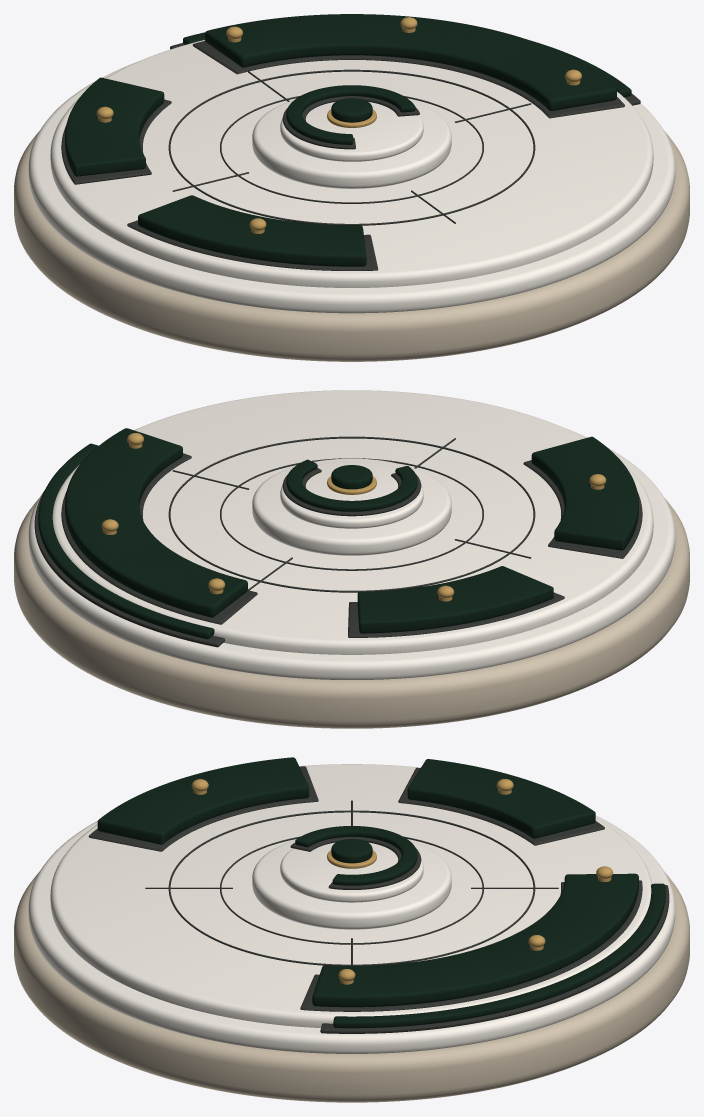
File: reflow-orb-authored.glb
3 renders of one model, top to bottom at view 1: azimuth 30°, elevation 25°; view 2: azimuth 150°, elevation 25°; view 3: azimuth 270°, elevation 25°, orthographic.
Visible parts, largest first — view 1: TopPlate, ReflowBody, LayeredSidewall, PrimaryForestTrack, PrimaryForestTrack_C, CenterPedestal, PrimaryForestTrack_B, CenterInterface, PrimaryTrackSeat, ObjectiveTrack, SeamGeometry_Outer, PrimaryTrackSeat_C (+5 smaller); view 2: TopPlate, ReflowBody, LayeredSidewall, PrimaryForestTrack, PrimaryForestTrack_C, PrimaryForestTrack_B, CenterPedestal, SecondaryForestTrack, CenterInterface, ObjectiveTrack, PrimaryTrackSeat, SeamGeometry_Outer (+6 smaller); view 3: TopPlate, ReflowBody, LayeredSidewall, PrimaryForestTrack, PrimaryForestTrack_C, PrimaryForestTrack_B, CenterPedestal, SecondaryForestTrack, CenterInterface, ObjectiveTrack, SecondaryTrackSeat, PrimaryTrackSeat (+6 smaller).
Part boxes in pixels (x1=…): TopPlate: x1=50, y1=40, x2=653, y2=287; ReflowBody: x1=14, y1=132, x2=689, y2=361; LayeredSidewall: x1=28, y1=61, x2=675, y2=313; PrimaryForestTrack: x1=205, y1=14, x2=616, y2=110; PrimaryForestTrack_C: x1=138, y1=195, x2=366, y2=266; CenterPedestal: x1=252, y1=100, x2=451, y2=188; PrimaryForestTrack_B: x1=65, y1=77, x2=164, y2=176; CenterInterface: x1=280, y1=102, x2=423, y2=161; PrimaryTrackSeat: x1=192, y1=41, x2=624, y2=118; ObjectiveTrack: x1=286, y1=85, x2=415, y2=144; SeamGeometry_Outer: x1=168, y1=69, x2=535, y2=225; PrimaryTrackSeat_C: x1=127, y1=220, x2=378, y2=270; TopPlate: x1=52, y1=390, x2=653, y2=654; ReflowBody: x1=14, y1=498, x2=689, y2=728; LayeredSidewall: x1=28, y1=428, x2=675, y2=679; PrimaryForestTrack: x1=65, y1=428, x2=247, y2=617; PrimaryForestTrack_C: x1=531, y1=436, x2=638, y2=550; PrimaryForestTrack_B: x1=357, y1=566, x2=553, y2=633; CenterPedestal: x1=252, y1=458, x2=451, y2=555; SecondaryForestTrack: x1=38, y1=443, x2=214, y2=639; CenterInterface: x1=280, y1=461, x2=423, y2=528; ObjectiveTrack: x1=286, y1=459, x2=417, y2=511; PrimaryTrackSeat: x1=61, y1=453, x2=257, y2=624; SeamGeometry_Outer: x1=168, y1=436, x2=535, y2=592; TopPlate: x1=50, y1=764, x2=652, y2=1027; ReflowBody: x1=14, y1=872, x2=689, y2=1102; LayeredSidewall: x1=28, y1=815, x2=675, y2=1053; PrimaryForestTrack: x1=312, y1=873, x2=638, y2=1007; PrimaryForestTrack_C: x1=97, y1=757, x2=309, y2=844; PrimaryForestTrack_B: x1=407, y1=759, x2=595, y2=838; CenterPedestal: x1=252, y1=840, x2=451, y2=929; SecondaryForestTrack: x1=333, y1=883, x2=665, y2=1028; CenterInterface: x1=280, y1=842, x2=423, y2=902; ObjectiveTrack: x1=295, y1=826, x2=417, y2=885; SecondaryTrackSeat: x1=320, y1=885, x2=669, y2=1033; PrimaryTrackSeat: x1=300, y1=880, x2=642, y2=1011.
Bounding box in the file's own units: 5.56 × 1.07 × 5.56.
Materials: 5 (2 with a texture image).
